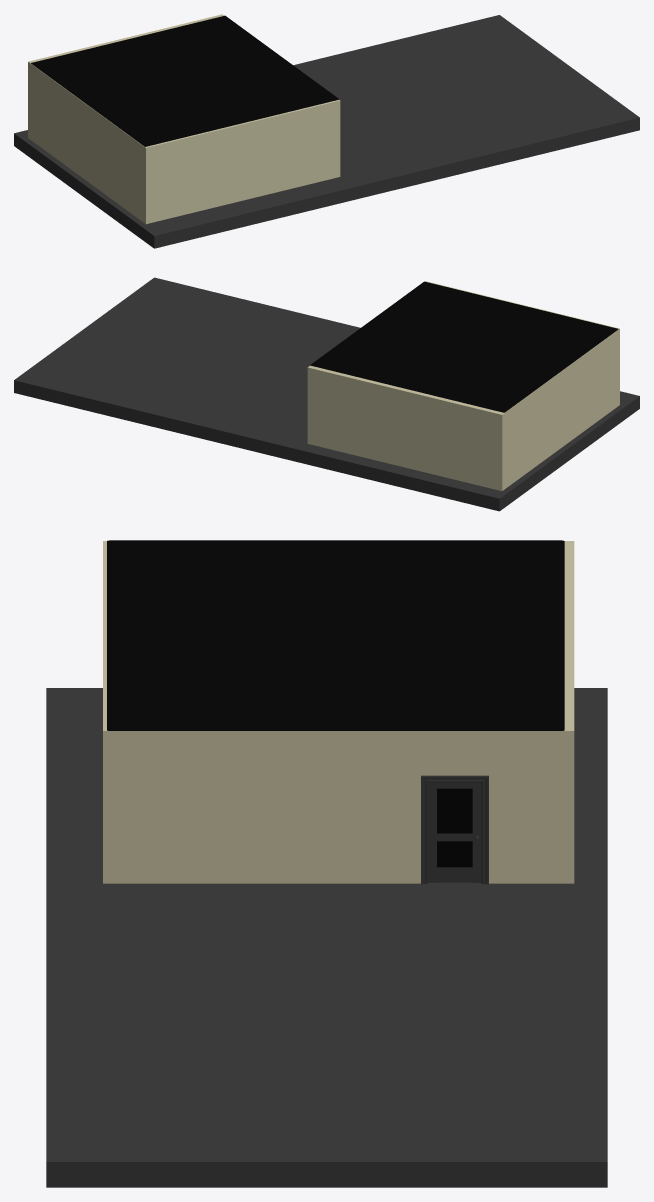
The model's file is EscapeRoom_Map_1.FBX.
3 renders of one model, top to bottom at view 1: azimuth 30°, elevation 25°; view 2: azimuth 150°, elevation 25°; view 3: azimuth 270°, elevation 25°, orthographic. The views are drawn at different scales.
Parts seen in each view (by area): view 1: Floor2, SM_MERGED_Wall_400x303_17, SM_GlassWindow_27, Floor; view 2: Floor2, SM_MERGED_Wall_400x303_17, SM_GlassWindow_27, Floor; view 3: Floor2, SM_GlassWindow_27, SM_MERGED_Wall_400x303_17, Floor, BP_OpenTheDoorV2_2, SM_DoorFrame_30.
Part boxes in pixels (<box>): Floor2: <box>293,15,639,189</box>; SM_MERGED_Wall_400x303_17: <box>28,14,340,224</box>; SM_GlassWindow_27: <box>31,15,339,146</box>; Floor: <box>14,130,396,248</box>; Floor2: <box>14,277,360,451</box>; SM_MERGED_Wall_400x303_17: <box>307,281,619,490</box>; SM_GlassWindow_27: <box>310,281,618,412</box>; Floor: <box>256,391,639,511</box>; Floor2: <box>46,925,607,1187</box>; SM_GlassWindow_27: <box>107,540,564,730</box>; SM_MERGED_Wall_400x303_17: <box>103,541,574,883</box>; Floor: <box>46,688,607,925</box>; BP_OpenTheDoorV2_2: <box>428,782,481,882</box>; SM_DoorFrame_30: <box>421,775,488,884</box>.
Size of what is drawn, in the model's own units: 1998 by 1000 by 352.
